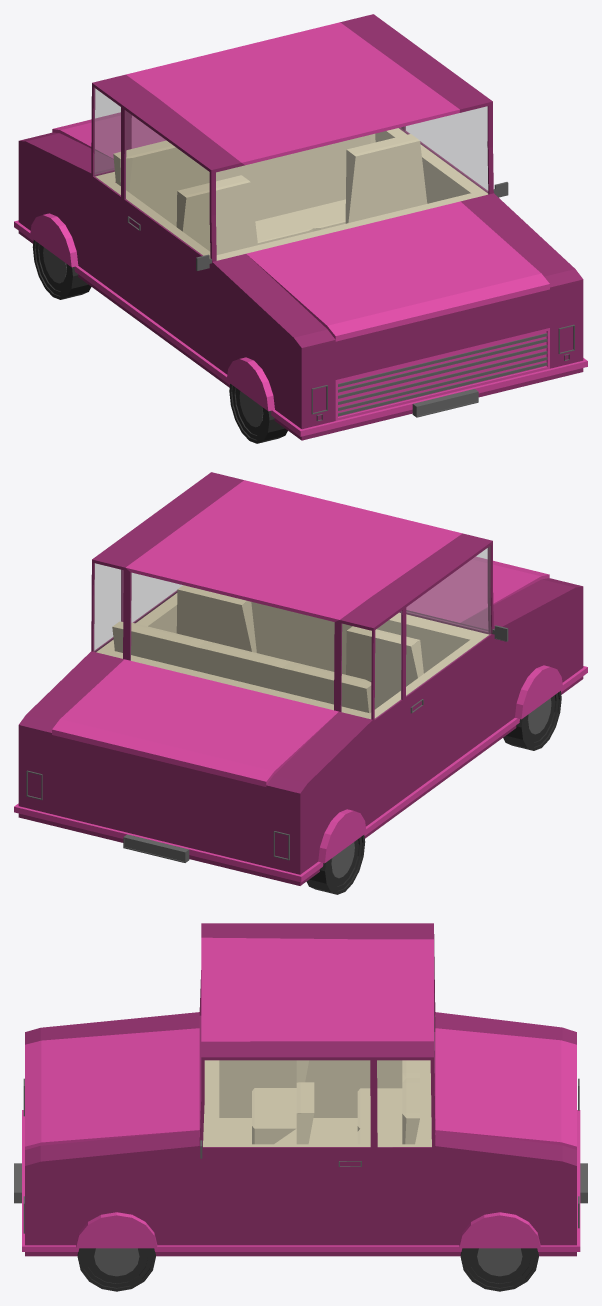
Rendered from Car_02.fbx.
3 renders of one model, top to bottom at view 1: azimuth 30°, elevation 25°; view 2: azimuth 150°, elevation 25°; view 3: azimuth 270°, elevation 25°, orthographic. The views are drawn at different scales.
Visible parts, largest first — view 1: Car_02; view 2: Car_02; view 3: Car_02.
Boxes of the visible parts, left/top/right/bottom form: Car_02: left=14, top=14, right=587, bottom=443; Car_02: left=14, top=472, right=587, bottom=894; Car_02: left=14, top=923, right=587, bottom=1291.
Bounding box in the file's own units: 147 × 108 × 242.
